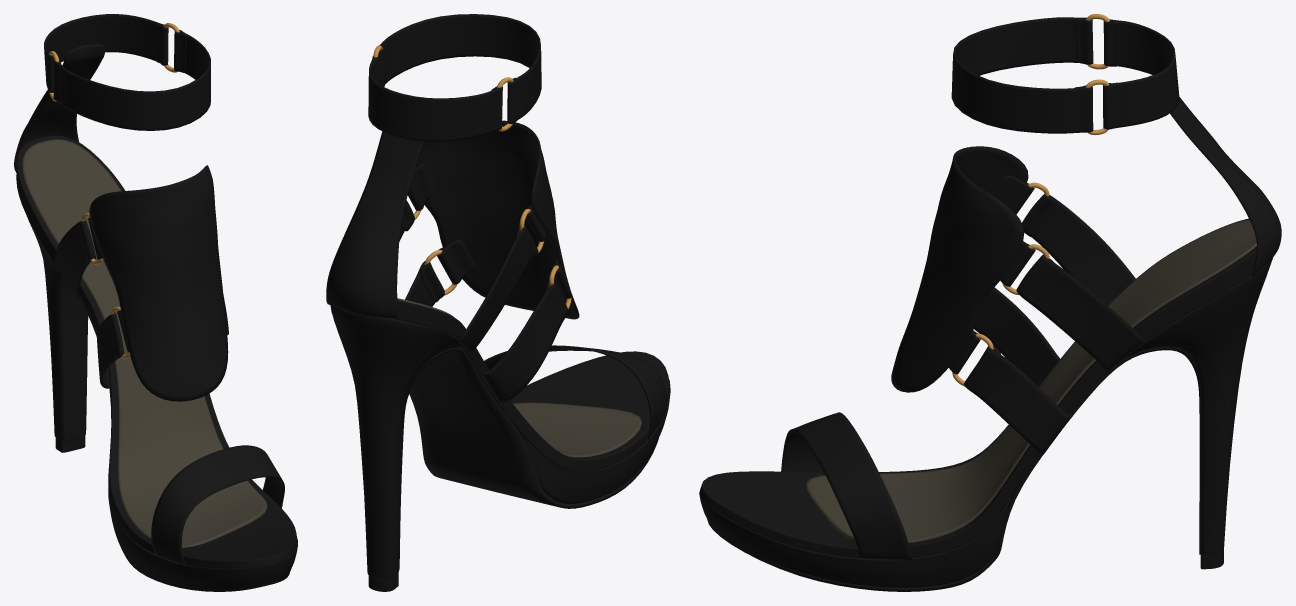
File: gladiator-sandal-heels.glb
3 views of the same model, side by side, from view 1: azimuth 30°, elevation 25°; view 2: azimuth 150°, elevation 25°; view 3: azimuth 270°, elevation 25° (orthographic). The views are drawn at different scales.
Visible parts, largest first — view 1: Heel.004; view 2: Heel.004; view 3: Heel.004.
Part boxes in pixels (left/top/right/bottom): Heel.004: left=14, top=14, right=297, bottom=591; Heel.004: left=326, top=14, right=670, bottom=591; Heel.004: left=699, top=14, right=1281, bottom=591.
Bounding box in the file's own units: 0.0817 × 0.2332 × 0.24.
Materials: 4 (2 with a texture image).
